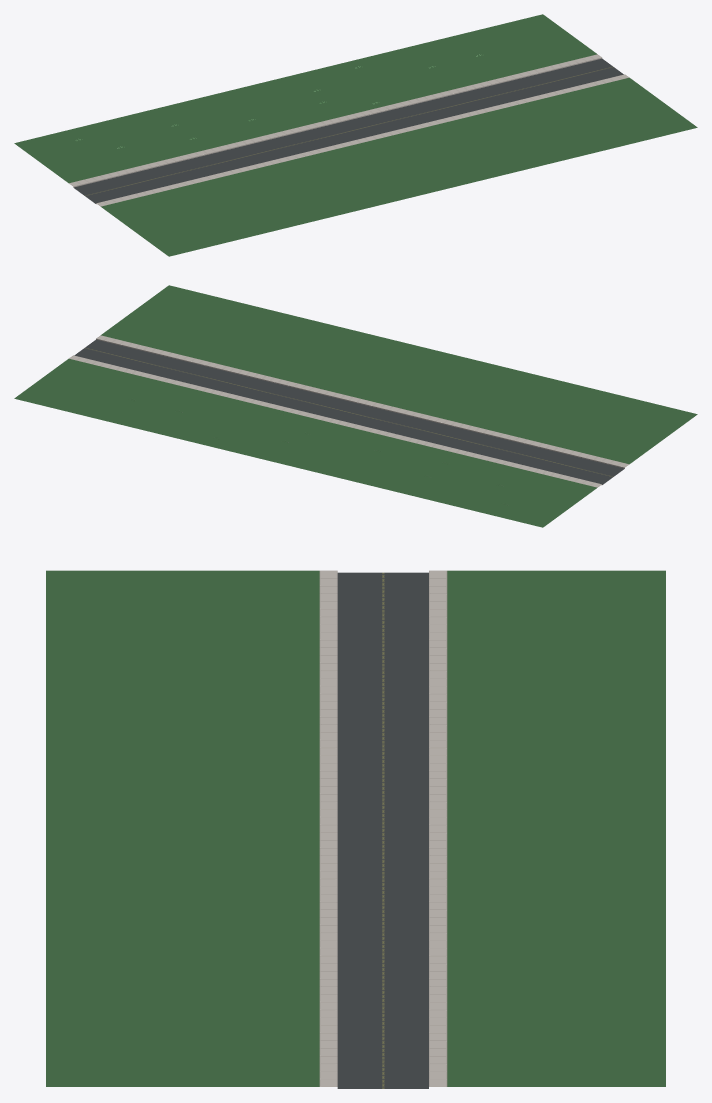
File: start.dae
The picture shows the model from 3 angles, top to bottom: view 1: azimuth 30°, elevation 25°; view 2: azimuth 150°, elevation 25°; view 3: azimuth 270°, elevation 25°; orthographic projection. The views are drawn at different scales.
Visible parts, largest first — view 1: Cube; view 2: Cube; view 3: Cube.
Part boxes in pixels (left/top/right/bottom): Cube: left=14, top=14, right=697, bottom=256; Cube: left=14, top=285, right=697, bottom=527; Cube: left=46, top=570, right=665, bottom=1088.
Size of the model in its own units: 130 by 65.88 by 2.16.
Materials: 1 (1 with a texture image).
